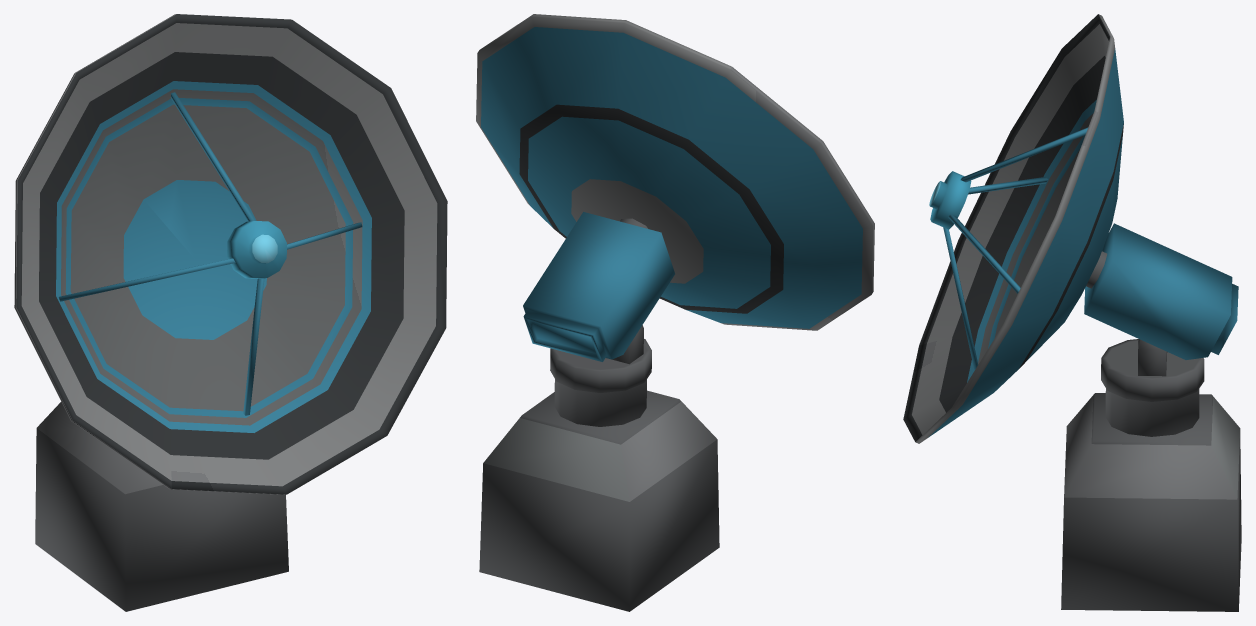
File: Satellite.fbx
3 views of the same model, side by side, from view 1: azimuth 30°, elevation 25°; view 2: azimuth 150°, elevation 25°; view 3: azimuth 270°, elevation 25° (orthographic). The views are drawn at different scales.
Visible parts, largest first — view 1: polySurface5; view 2: polySurface5; view 3: polySurface5.
Boxes of the visible parts, bbox=[...] form: polySurface5: bbox=[14, 14, 447, 611]; polySurface5: bbox=[476, 14, 874, 611]; polySurface5: bbox=[903, 14, 1241, 611].
Bounding box in the file's own units: 558 × 702 × 402.
